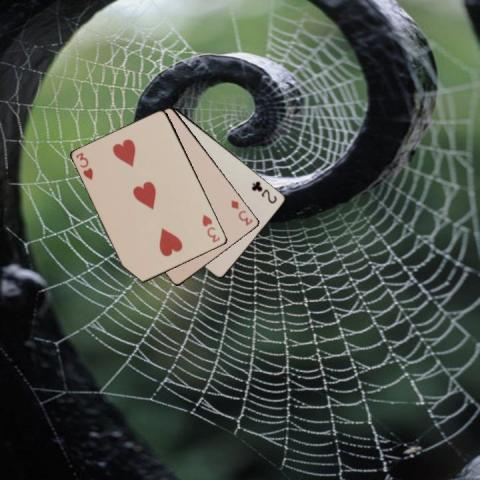2c: (248, 178, 278, 205)
3d: (228, 197, 254, 227)
3h: (200, 211, 222, 244), (73, 150, 95, 182)
